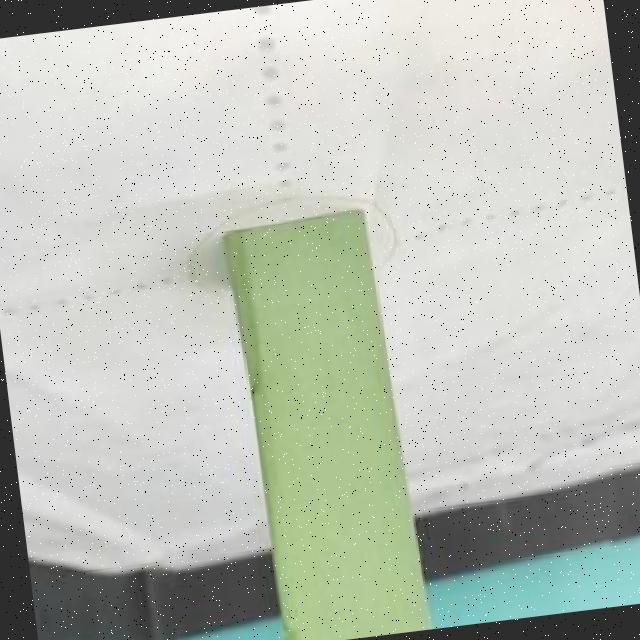greenbox: (223, 201, 430, 640)
